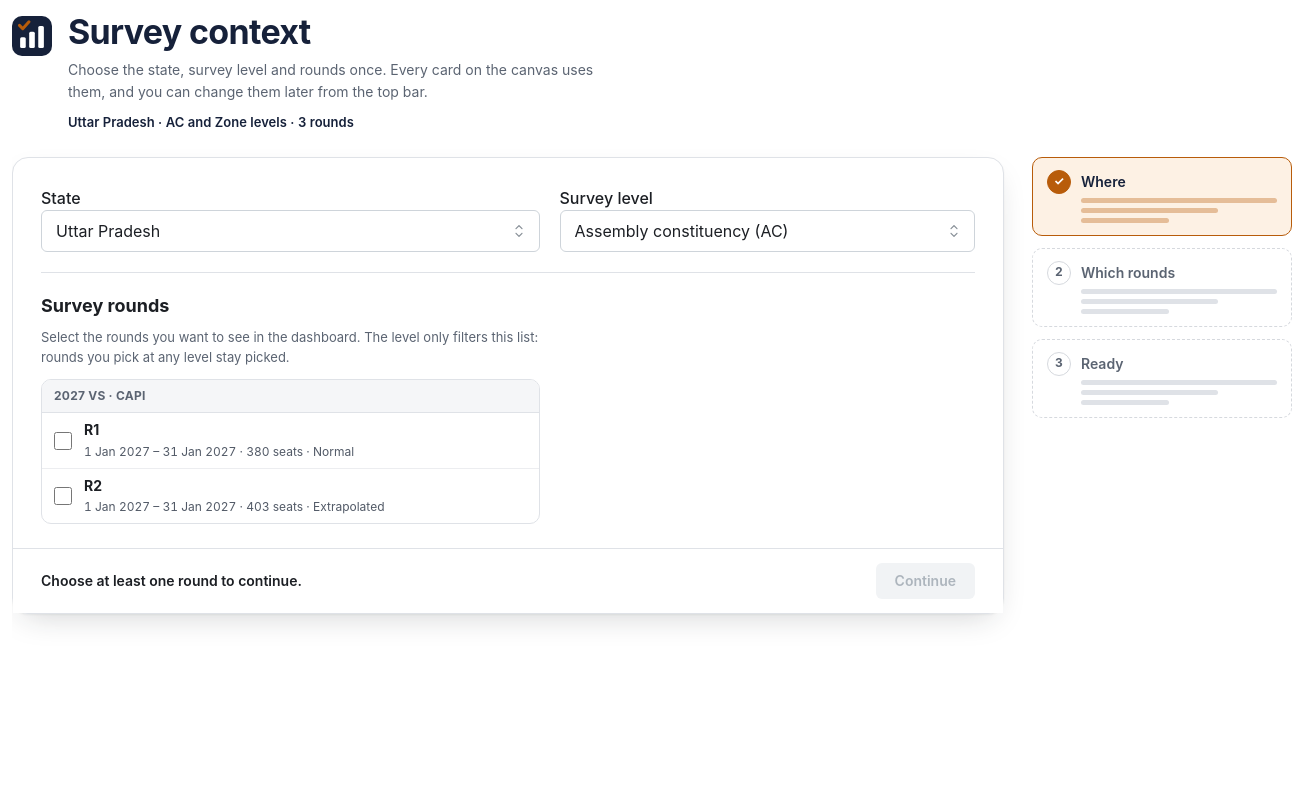
Test: ContextBar › matched coverage is refused when a zone round is selected with an AC round
Click the checkbox named "2027 VS CAPI R1" at (63, 441), box [54,432,72,450]
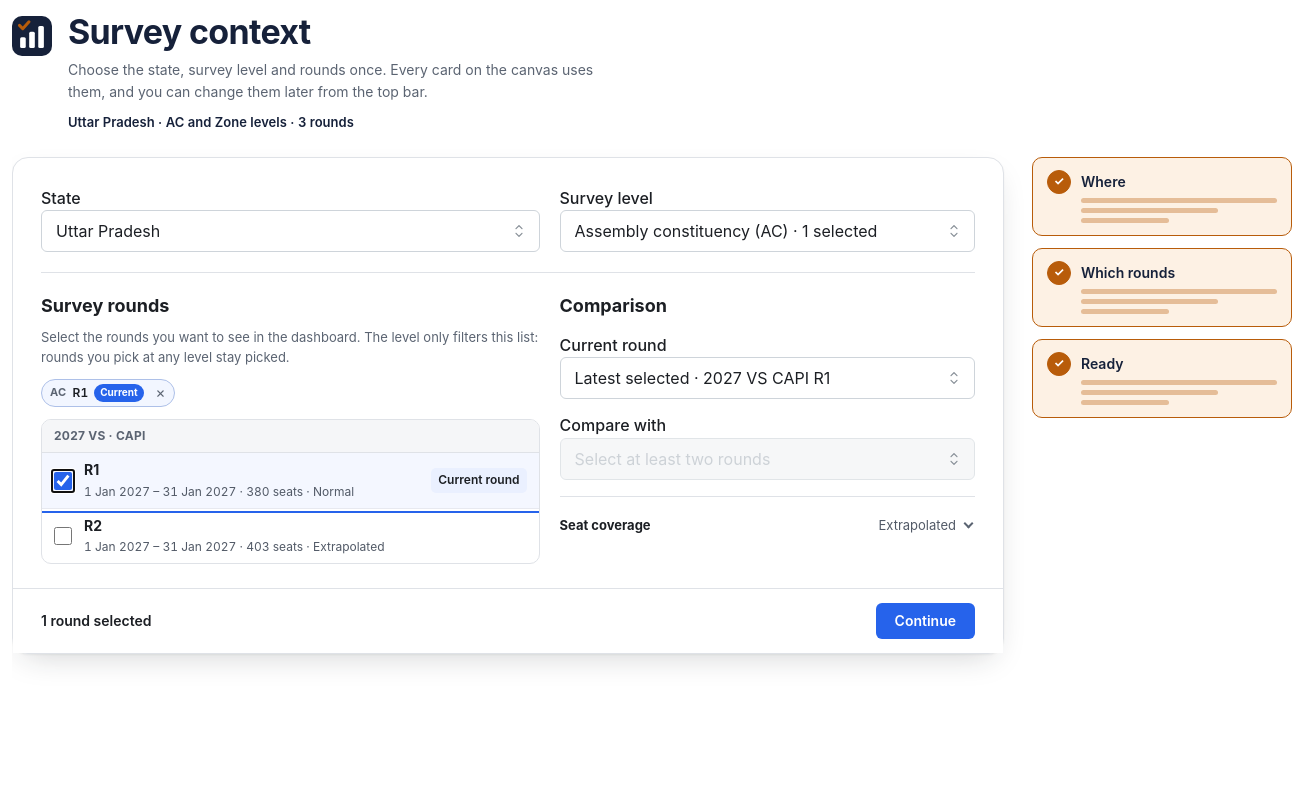
Click the field labelled "Survey level" at (767, 231), box [560,210,975,252]
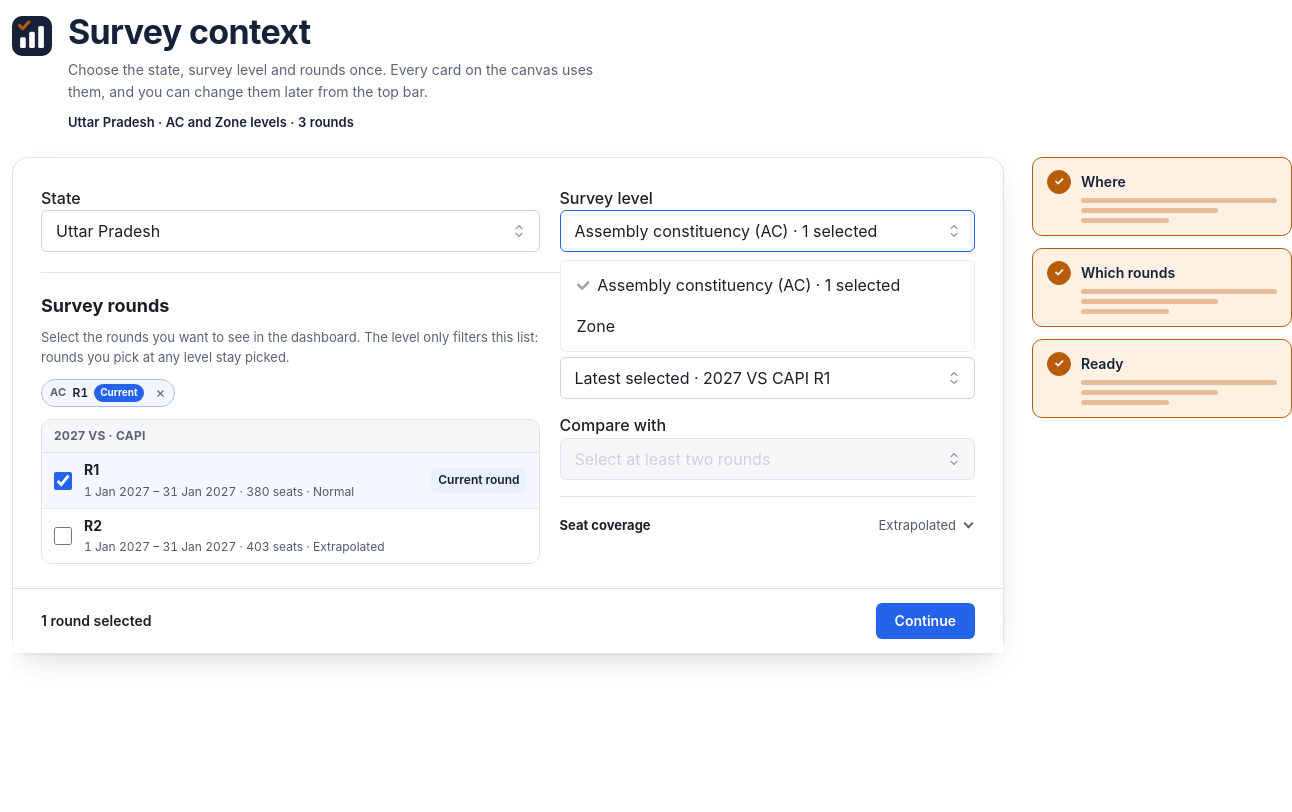
Click the option "Zone" at (596, 326), box [576,316,615,336]
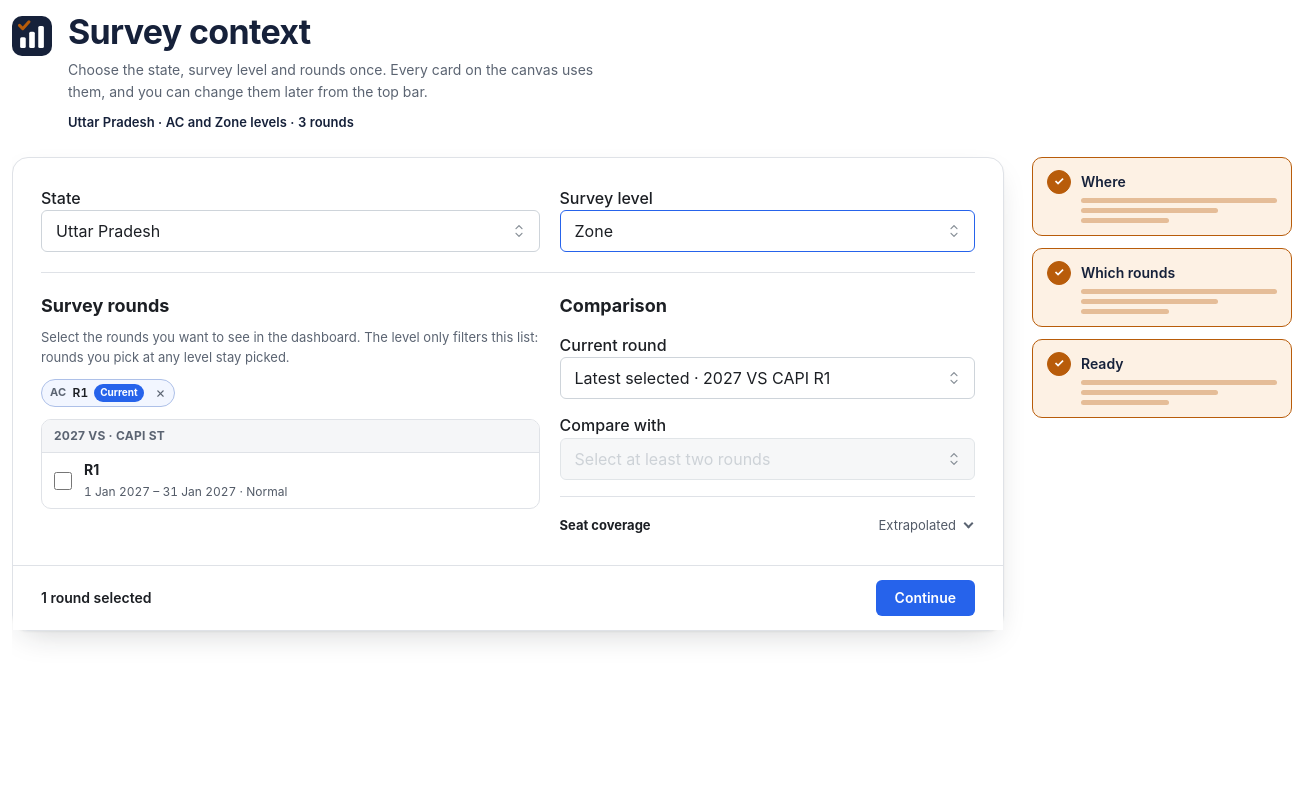
Click the checkbox named "2027 VS CAPI ST R1" at (63, 481), box [54,472,72,490]
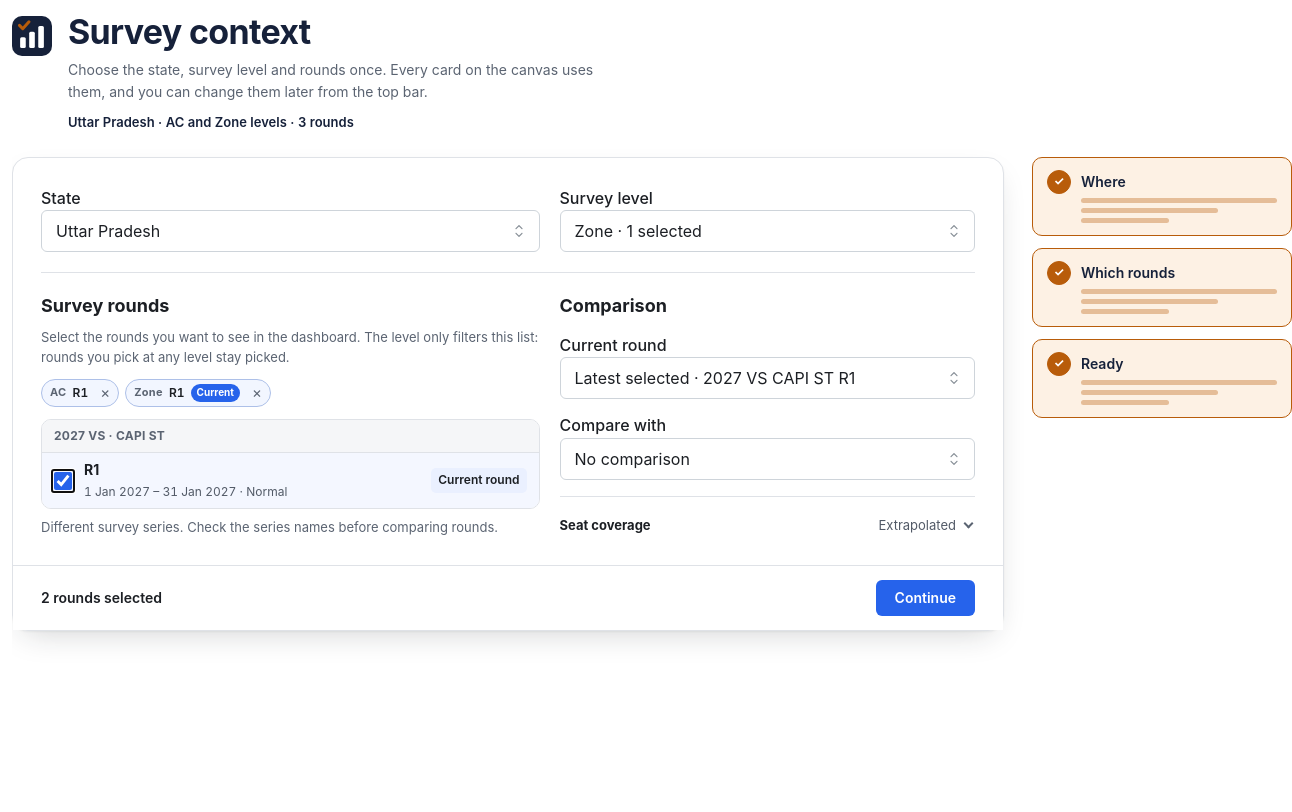
Click the text "Seat coverage" at (605, 525), box [560,515,651,535]
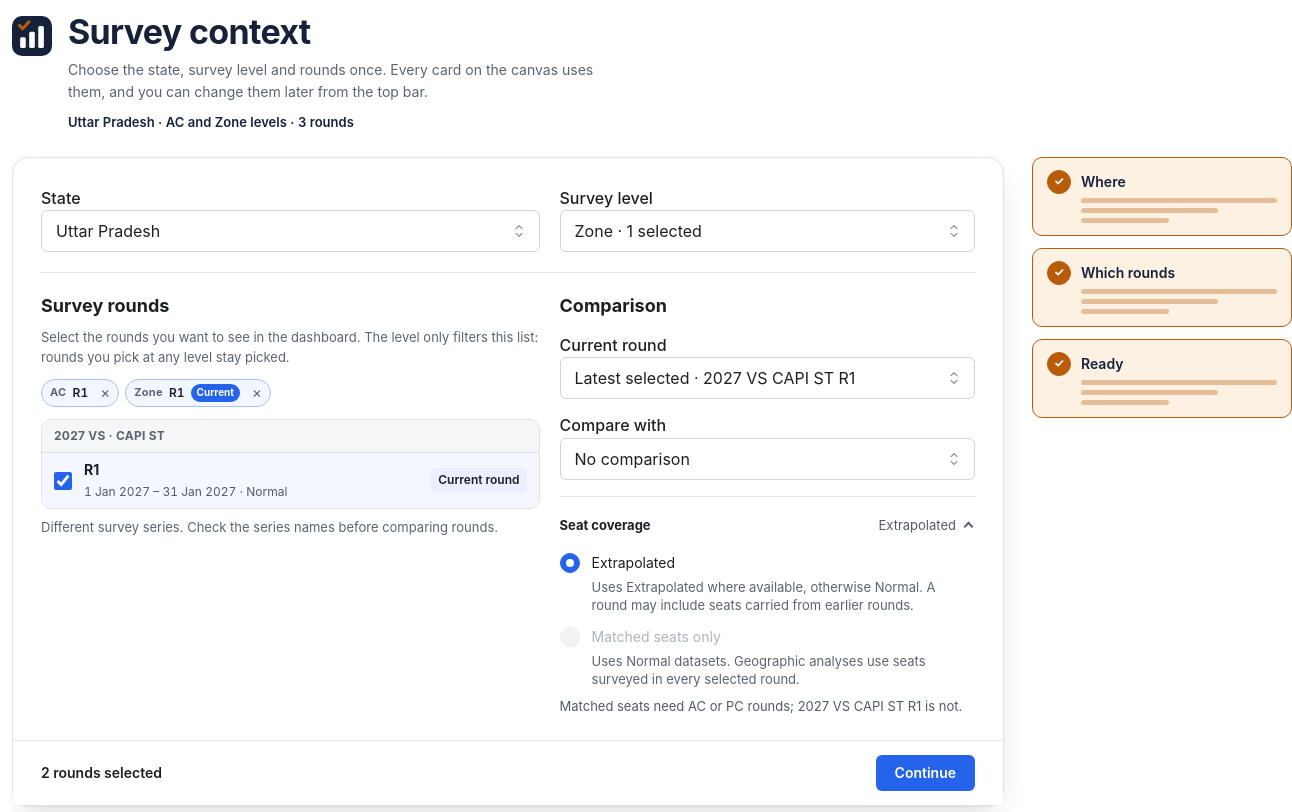
Expected: the text "Matched seats need AC or PC rounds; 2027 VS CAPI ST R1 is not" is shown, [560,698,962,714]
